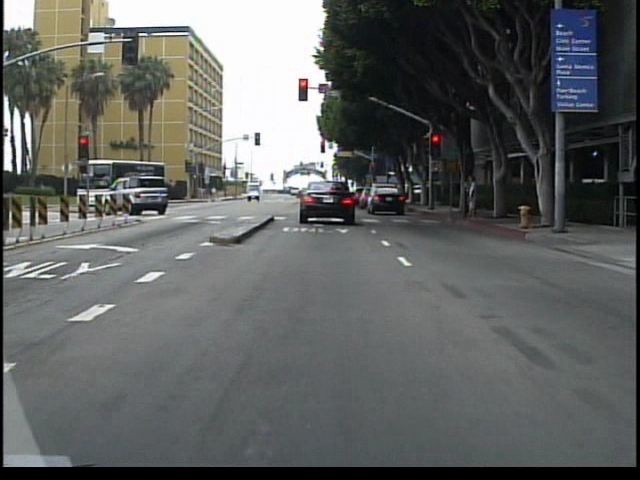person: (464, 169, 483, 219)
